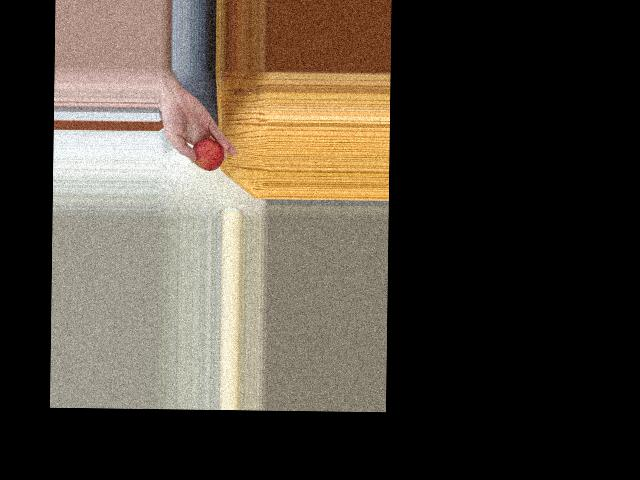apple: (191, 136, 224, 170)
